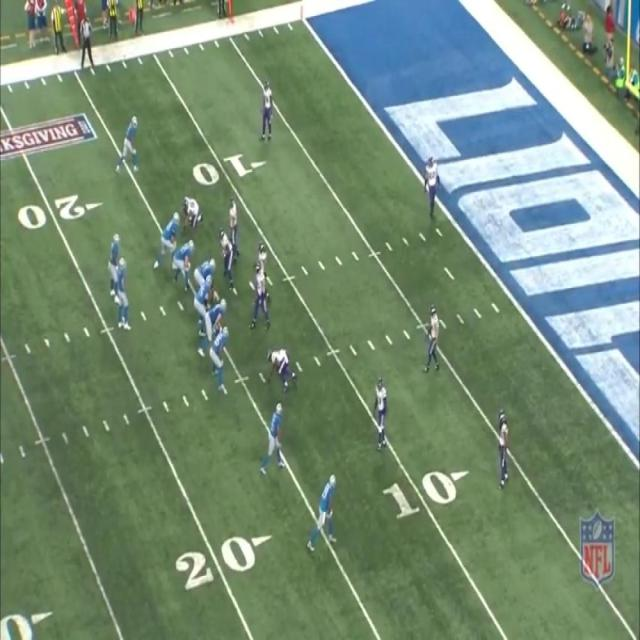center: (195, 259, 218, 289)
db: (494, 411, 511, 477), (425, 299, 439, 366), (373, 380, 387, 441), (260, 80, 274, 134), (428, 156, 439, 216)
lb: (227, 200, 240, 235), (258, 243, 272, 269)
qb: (111, 232, 121, 295)
